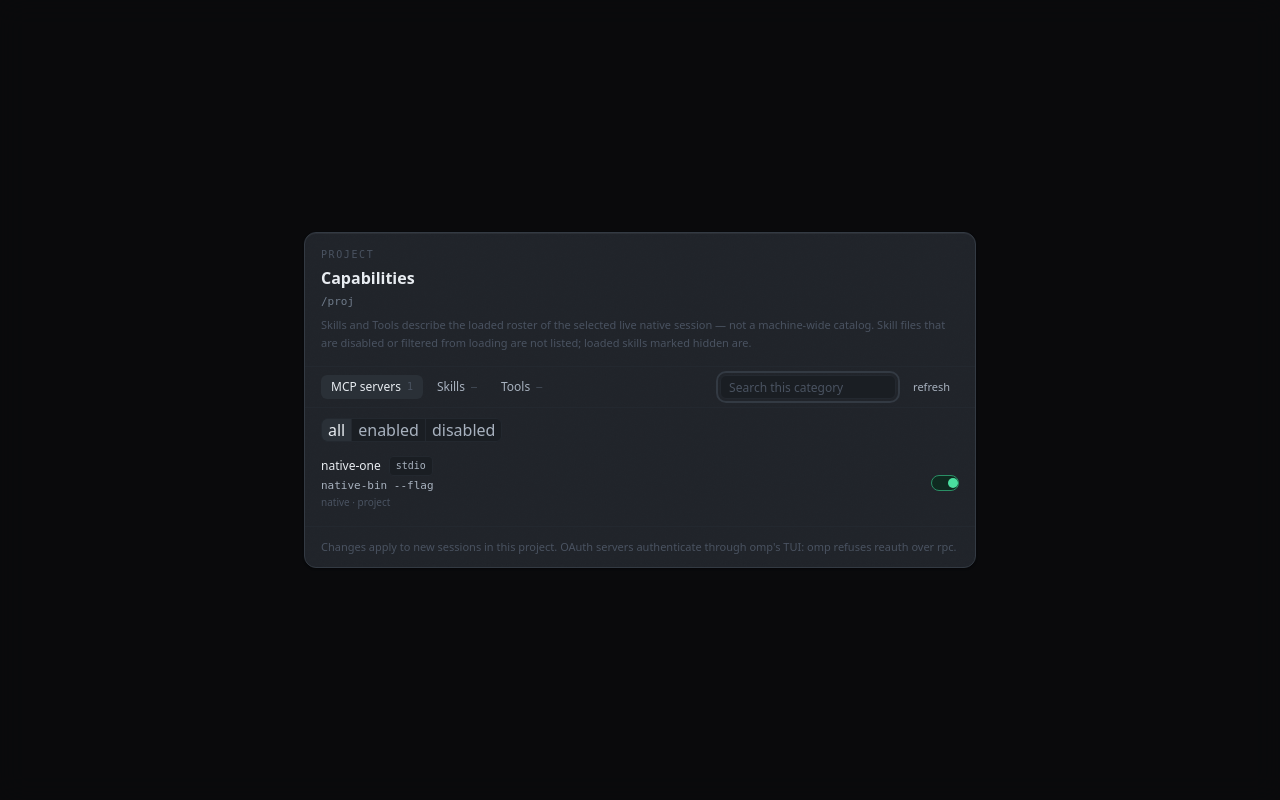
CapabilitiesViewer — MCP tab › renders a toggle rejection inline and keeps the previous list
Click the switch named "disable native-one" at coordinates (945, 483), box [931, 475, 959, 491]
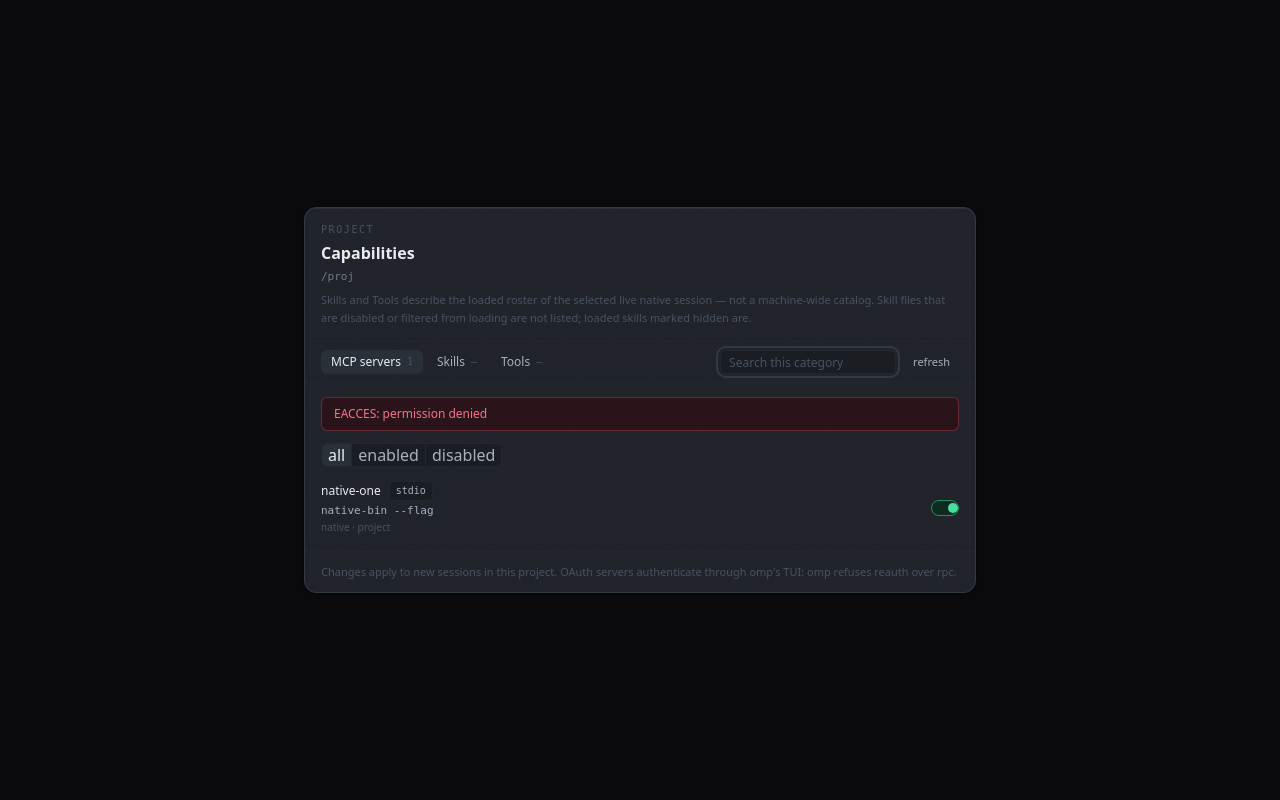
expect the text "EACCES: permission denied" is shown: met, box [321, 397, 959, 431]
